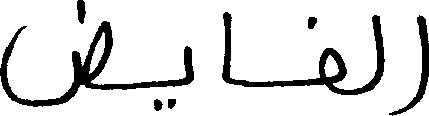X: (0, 0, 111, 111), (318, 43, 347, 99), (415, 10, 428, 109), (371, 10, 383, 94), (221, 7, 231, 88), (183, 41, 194, 89)
